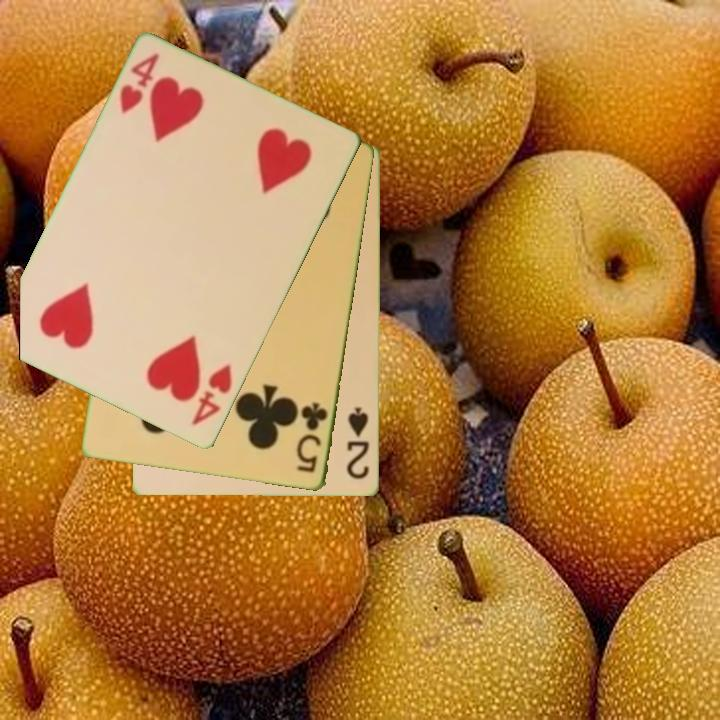2s: (343, 404, 372, 482)
4h: (188, 360, 236, 429), (116, 49, 163, 117)
5c: (293, 399, 331, 477)
